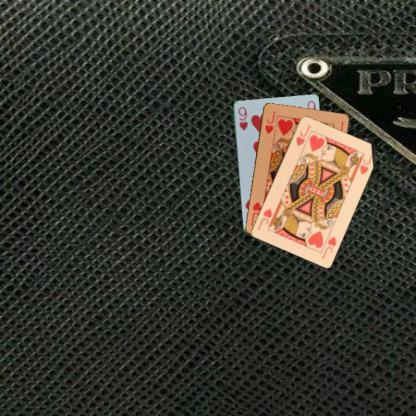9h: (235, 104, 249, 132)
Jh: (318, 230, 338, 260), (294, 122, 312, 146), (262, 108, 277, 134)
